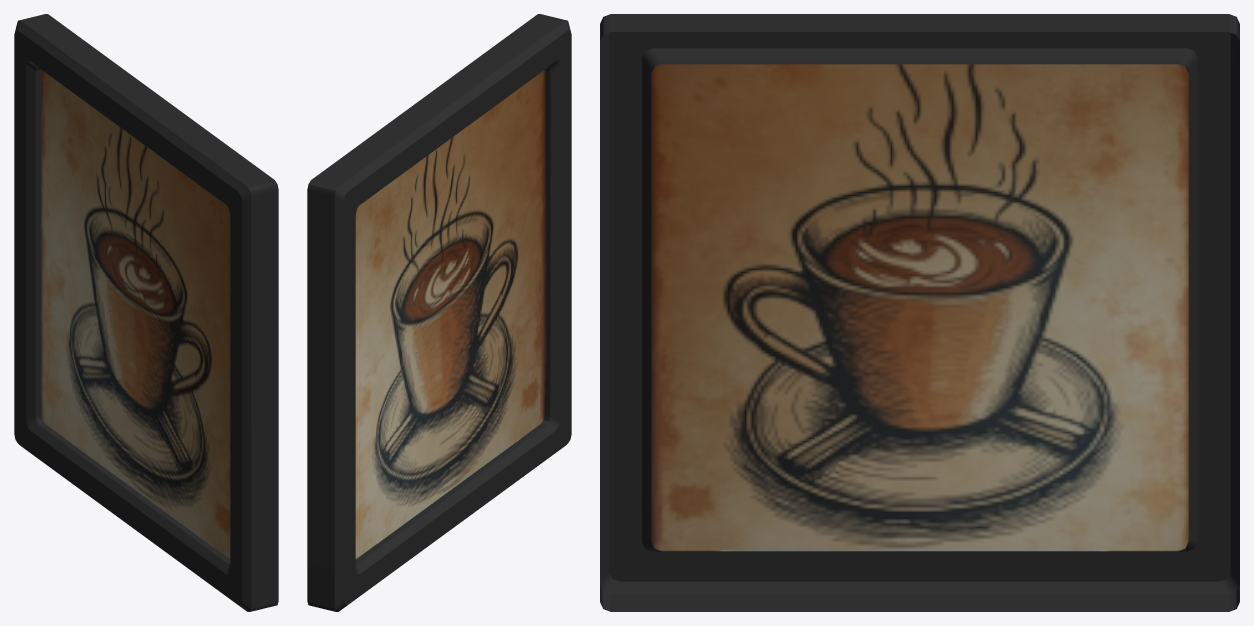
Rendered from SM_Frame4.fbx.
3 views of the same model, side by side, from view 1: azimuth 30°, elevation 25°; view 2: azimuth 150°, elevation 25°; view 3: azimuth 270°, elevation 25° (orthographic). The views are drawn at different scales.
Visible parts, largest first — view 1: SM_Frame4_LOD0; view 2: SM_Frame4_LOD0; view 3: SM_Frame4_LOD0.
Part boxes in pixels (x1,y1,x2,y2): SM_Frame4_LOD0: (14, 14, 278, 611); SM_Frame4_LOD0: (307, 14, 571, 611); SM_Frame4_LOD0: (600, 14, 1239, 611).
Bounding box in the file's own units: 4.08 × 50 × 50.
Materials: 1 (1 with a texture image).
